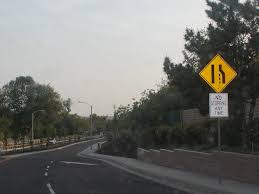laneEnds: (198, 52, 239, 91)
